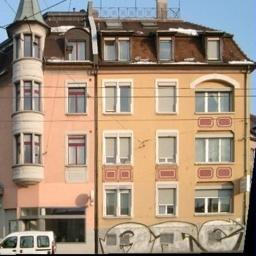building: (5, 1, 253, 256)
